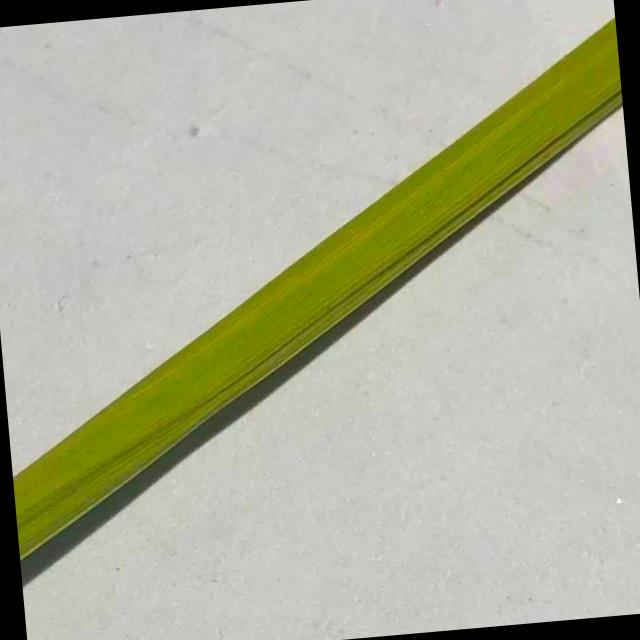Rice_Healthy: (13, 15, 622, 559)
